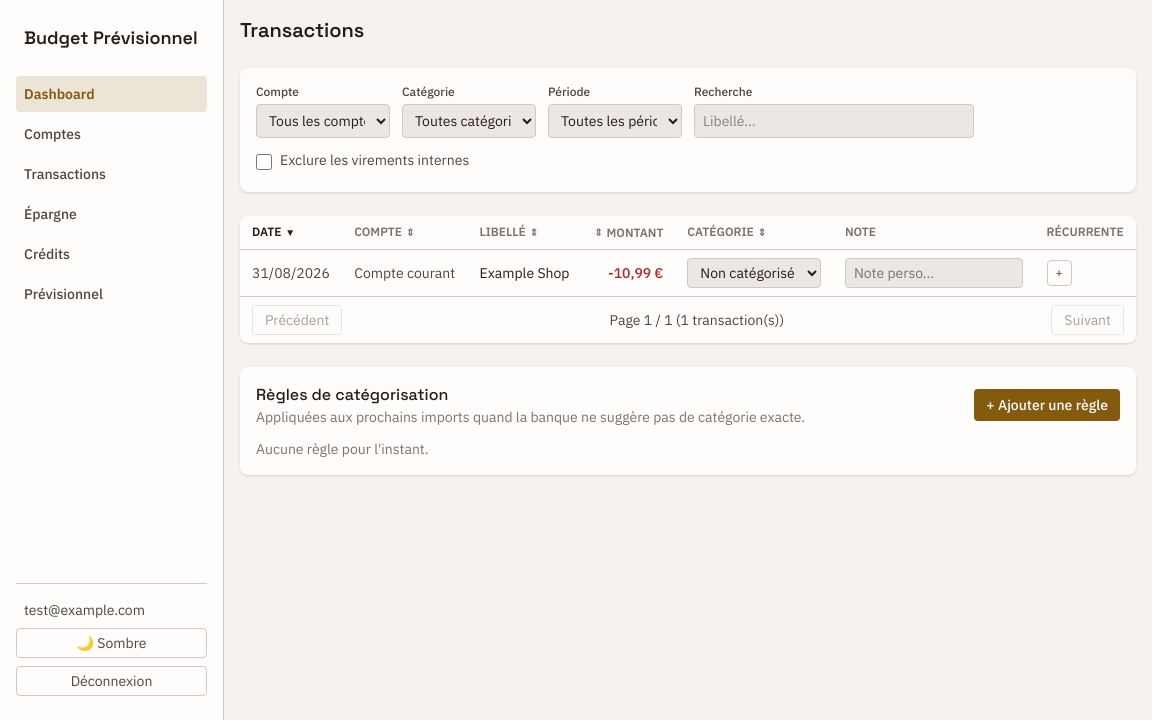
TransactionsPage › creates a recurring expense pre-filled from the transaction on confirm
Expected: the text "Example Shop" is shown, [468, 249, 582, 296]
Click the button named "Marquer Example Shop comme dépense récurrente" at (1059, 273), box [1046, 260, 1072, 286]
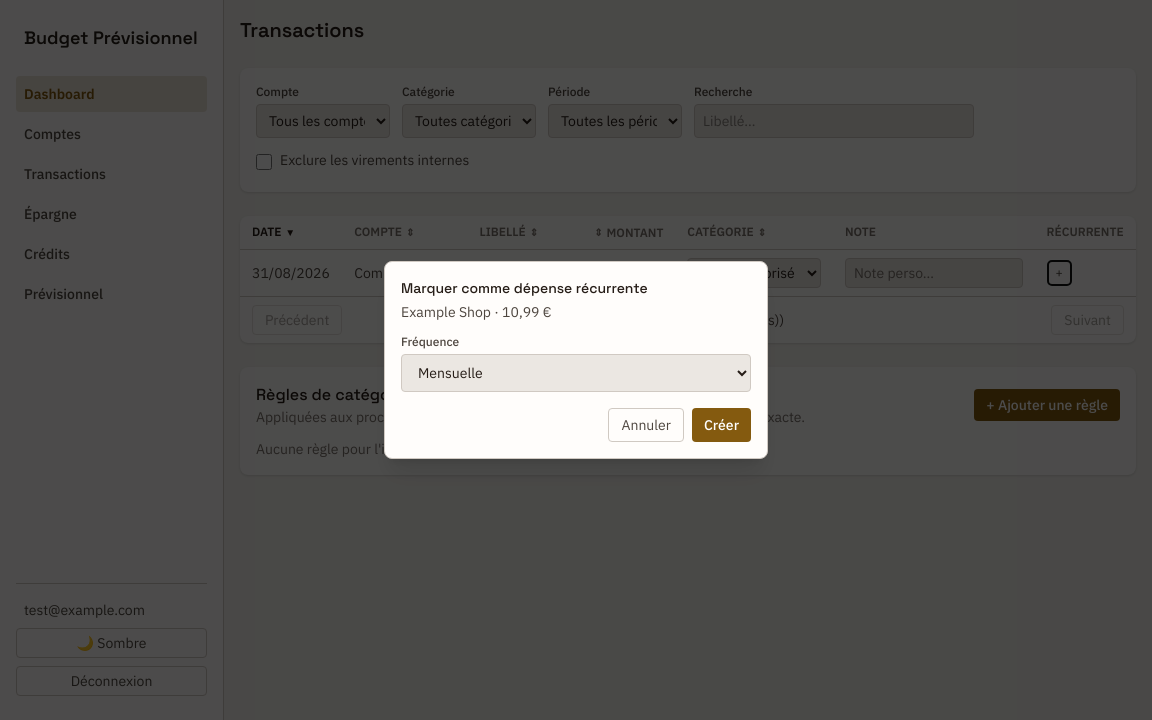
Expected: the dialog is shown, [384, 261, 768, 459]
Select "Annuelle" in the dropdown labelled "Fréquence" at (576, 373), box [401, 354, 751, 392]
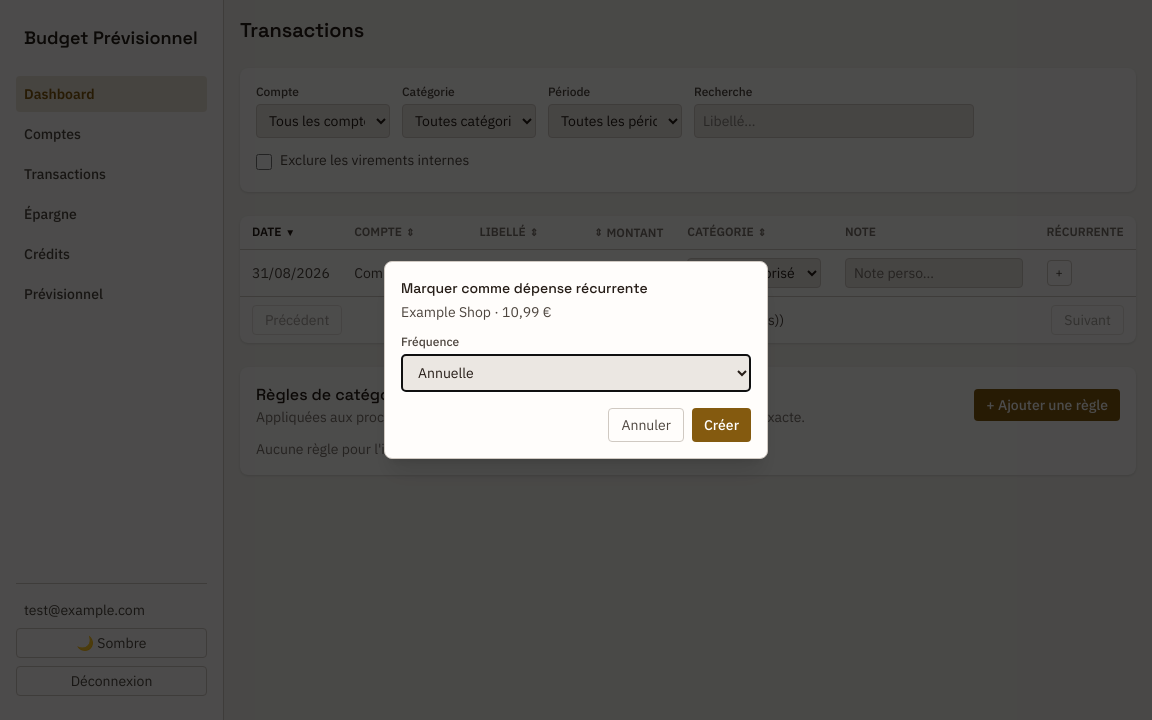
Click the button "Créer" at (721, 425), box [692, 408, 751, 442]
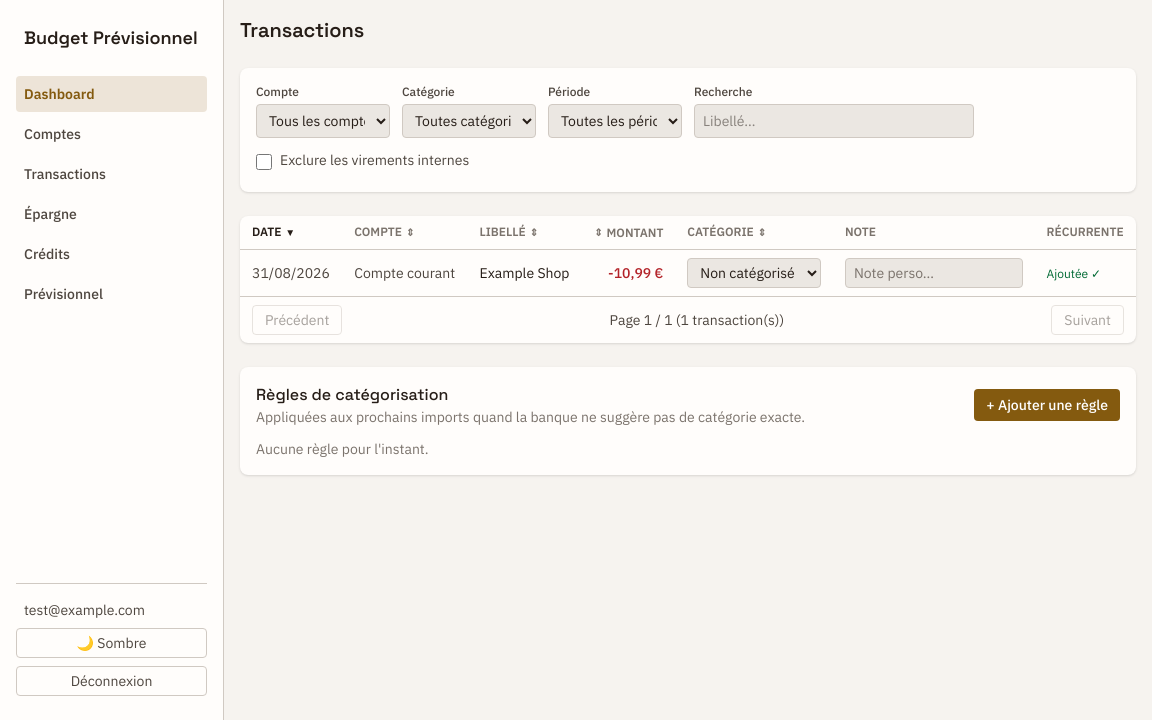
Expected: the text "Ajoutée ✓" is shown, [1046, 266, 1101, 281]
